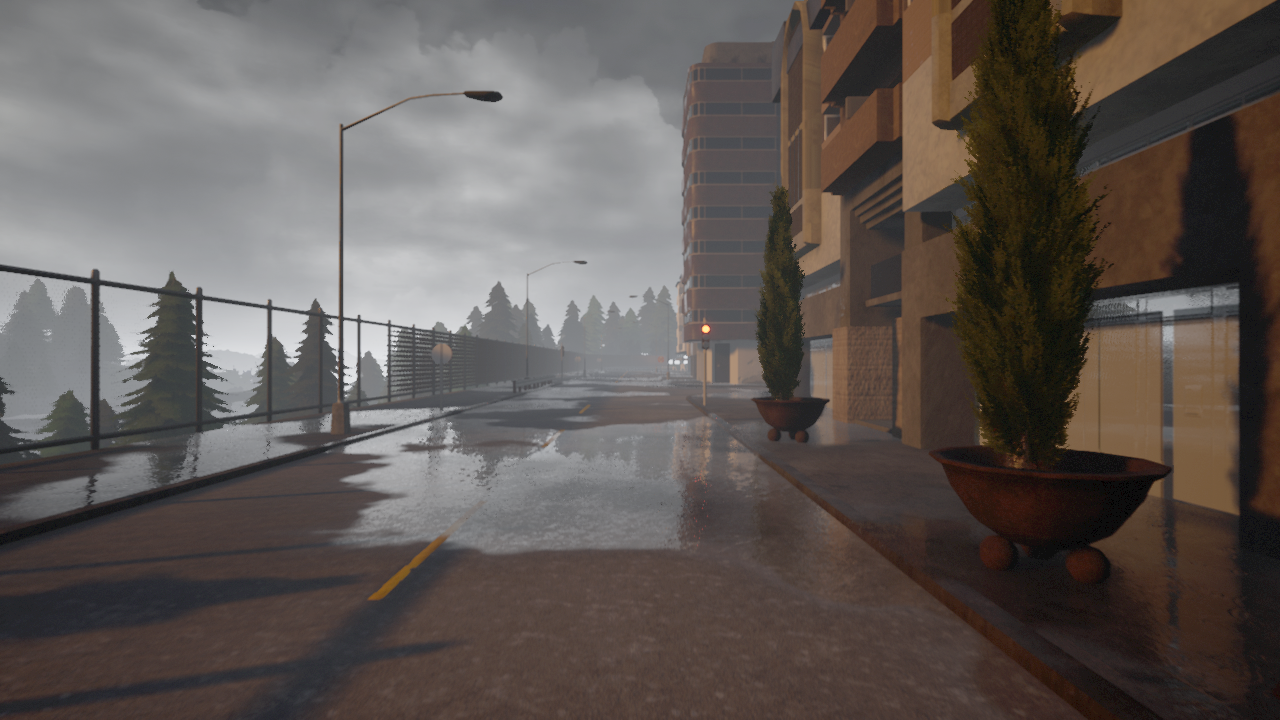red: (701, 323, 710, 351)
